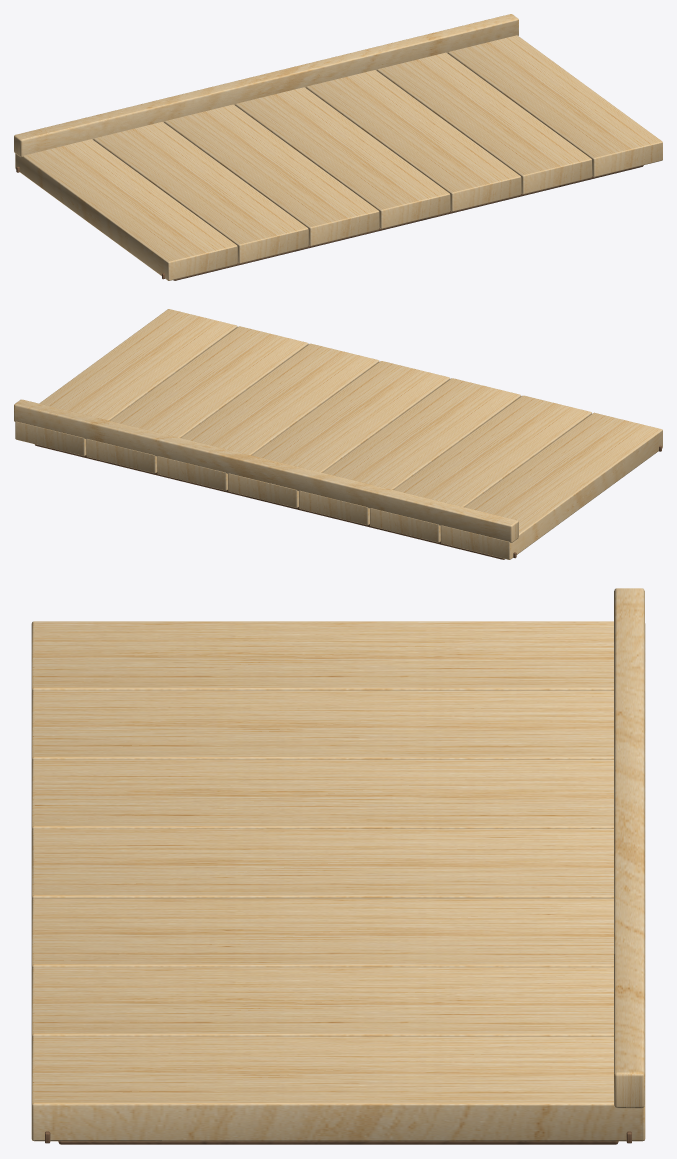
Rendered from HinokiBath.fbx.
3 views of the same model, one above another, from view 1: azimuth 30°, elevation 25°; view 2: azimuth 150°, elevation 25°; view 3: azimuth 270°, elevation 25° (orthographic). The views are drawn at different scales.
Parts seen in each view (by area): view 1: HinokiBath_Mesh; view 2: HinokiBath_Mesh; view 3: HinokiBath_Mesh.
Boxes of the visible parts, box(x1,y1,x2,y2) form: HinokiBath_Mesh: box(14, 14, 662, 280); HinokiBath_Mesh: box(14, 309, 662, 559); HinokiBath_Mesh: box(31, 588, 645, 1144).
Bounding box in the file's own units: 1.3 × 0.1075 × 0.69.
1 material, 1 textured.
